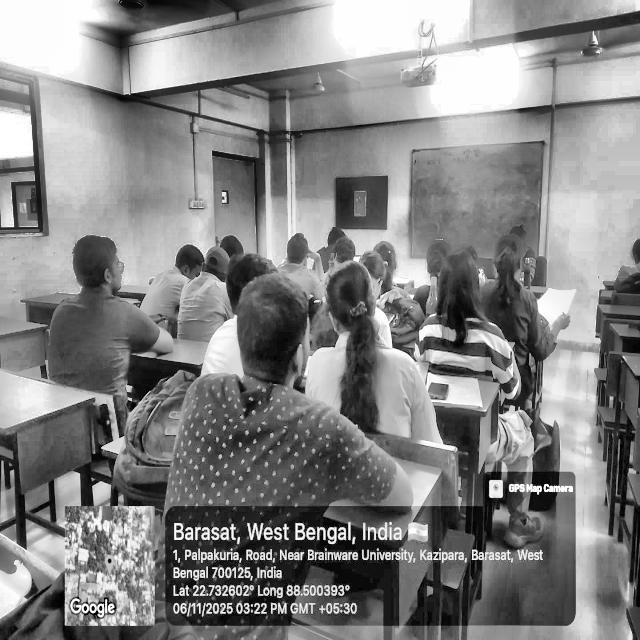Focus: (416, 209, 609, 375), (196, 240, 379, 405), (58, 212, 128, 316), (614, 224, 640, 330)
Not Focus: (272, 203, 446, 325), (314, 240, 402, 373), (164, 235, 248, 332)
